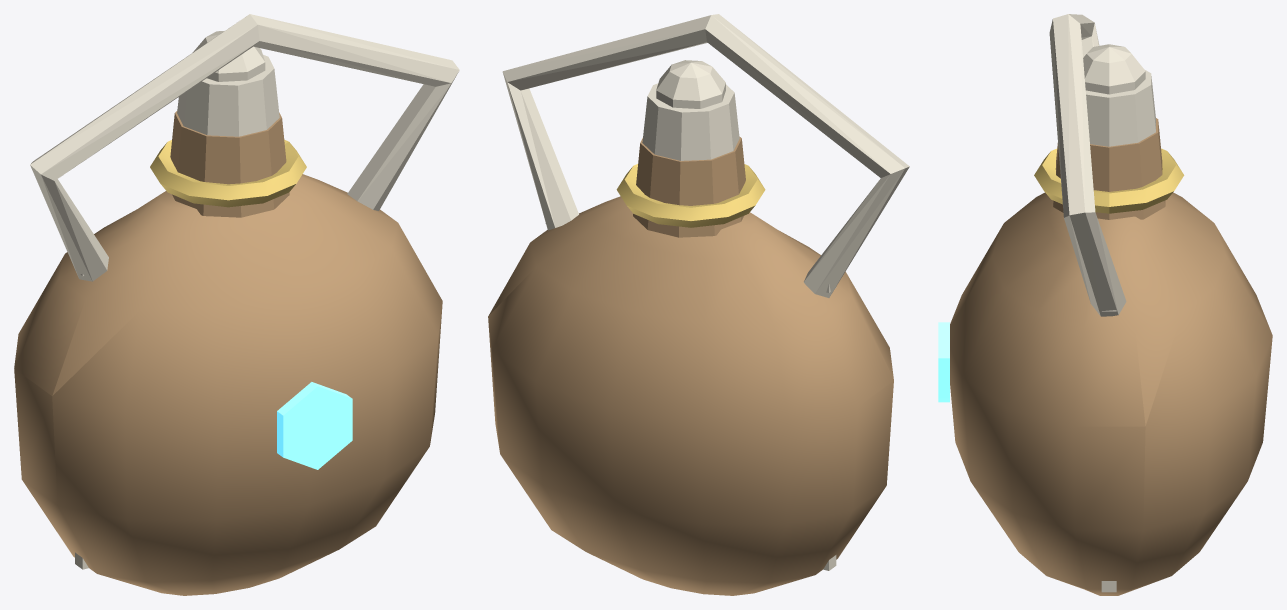
Rendered from pickups-and-collectibles-water-flask-af039209__19913.glb.
3 renders of one model, left to right at view 1: azimuth 30°, elevation 25°; view 2: azimuth 150°, elevation 25°; view 3: azimuth 270°, elevation 25°, orthographic. The views are drawn at different scales.
Parts seen in each view (by area): view 1: body/timber, body/bone, body/gem, body/gold; view 2: body/timber, body/bone, body/gold; view 3: body/timber, body/bone, body/gold, body/gem.
Part boxes in pixels (x1=…): body/timber: x1=14, y1=111, x2=442, y2=595; body/bone: x1=30, y1=14, x2=459, y2=569; body/gem: x1=277, y1=382, x2=352, y2=469; body/gold: x1=150, y1=139, x2=306, y2=207; body/timber: x1=488, y1=136, x2=893, y2=595; body/bone: x1=502, y1=14, x2=909, y2=570; body/gold: x1=616, y1=164, x2=765, y2=227; body/timber: x1=950, y1=118, x2=1272, y2=595; body/bone: x1=1049, y1=14, x2=1155, y2=592; body/gold: x1=1034, y1=148, x2=1184, y2=213; body/gem: x1=938, y1=322, x2=949, y2=402.
Bounding box in the file's own units: 0.3175 × 0.4108 × 0.227.
